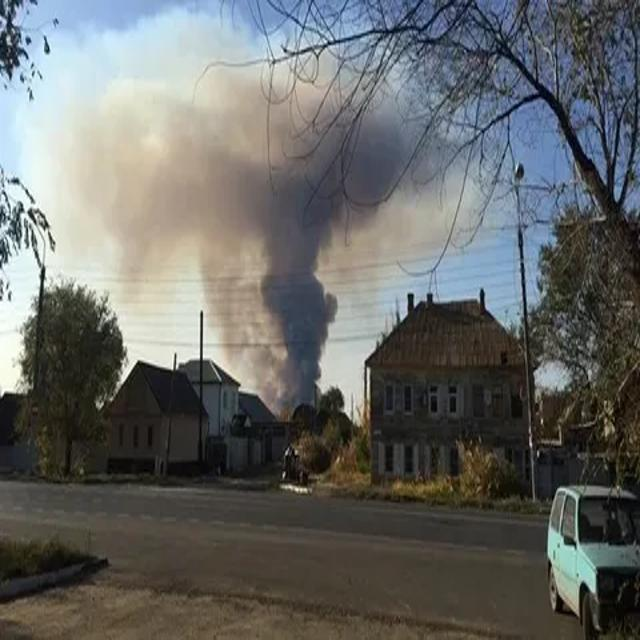Smoke: (229, 85, 396, 413)
